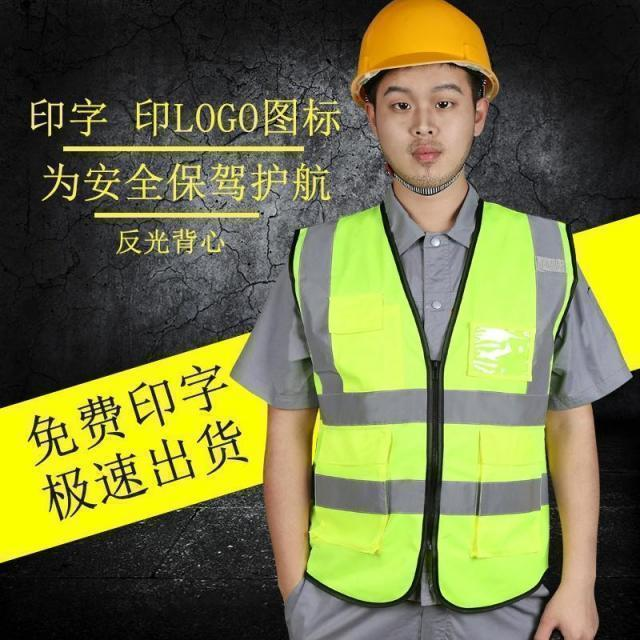helmet: (351, 0, 502, 118)
vest: (286, 189, 580, 622)
